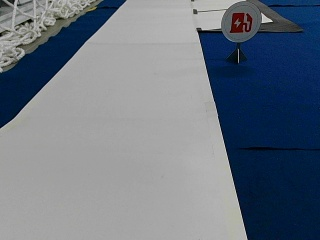battery: (220, 1, 261, 42)
